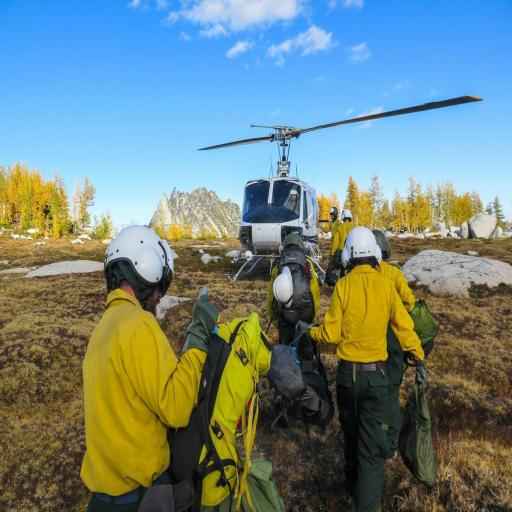helicopter: (202, 98, 477, 280)
